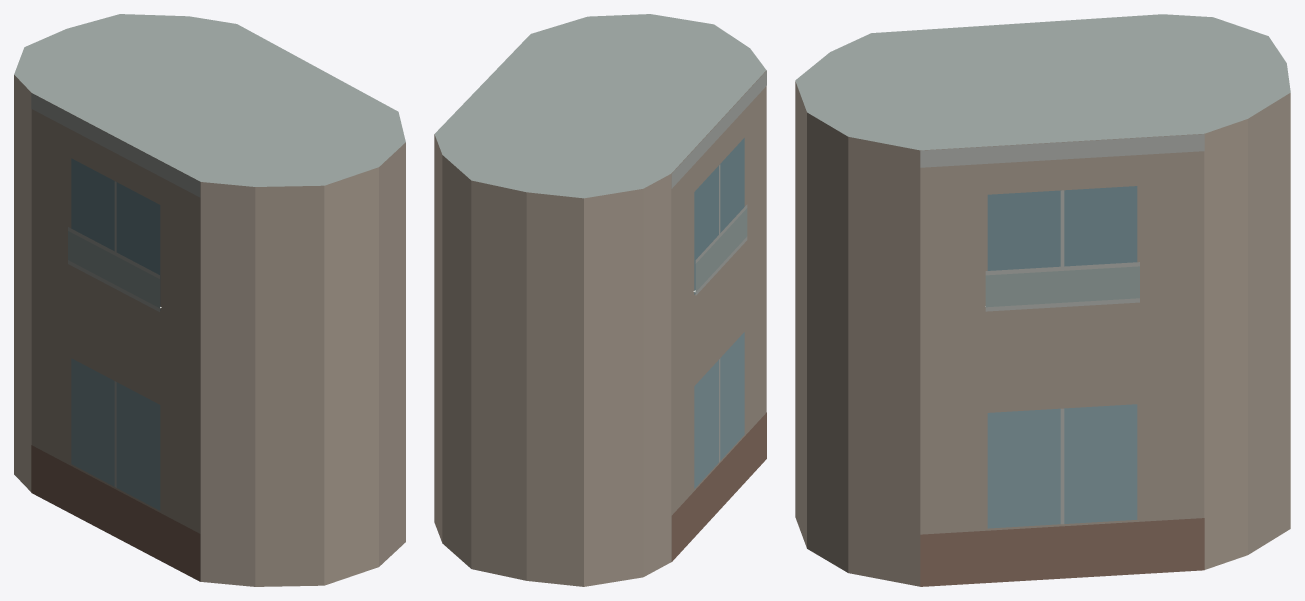
File: survey-upis-32634819.glb
3 renders of one model, left to right at view 1: azimuth 30°, elevation 25°; view 2: azimuth 150°, elevation 25°; view 3: azimuth 270°, elevation 25°, orthographic. The views are drawn at different scales.
Parts seen in each view (by area): view 1: survey-upis-32634819.tmp; view 2: survey-upis-32634819.tmp; view 3: survey-upis-32634819.tmp.
Boxes of the visible parts, left/top/right/bottom form: survey-upis-32634819.tmp: left=14, top=14, right=405, bottom=586; survey-upis-32634819.tmp: left=434, top=14, right=766, bottom=586; survey-upis-32634819.tmp: left=795, top=14, right=1290, bottom=586.
Bounding box in the file's own units: 4.1 × 6.1 × 6.28.
